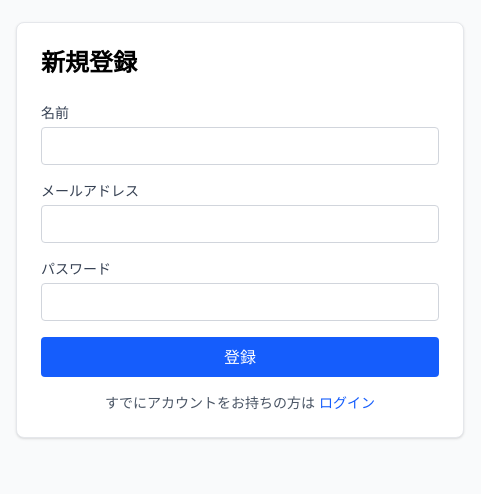
it: RegisterPage › register 失敗時にエラーを表示する
In the field labelled "名前": coordinates (240, 146) [41,127,439,165], type "テスト"
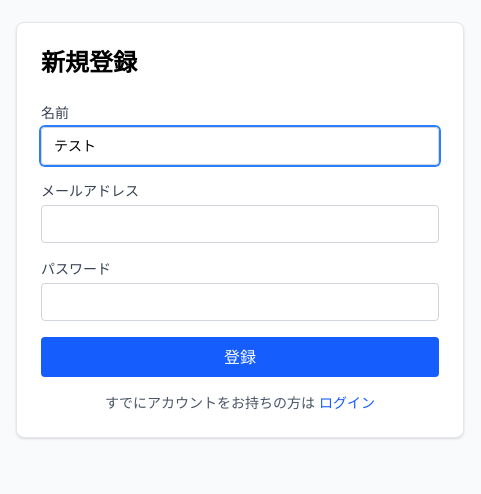
In the field labelled "メールアドレス": coordinates (240, 224) [41,205,439,243], type "test@example.com"
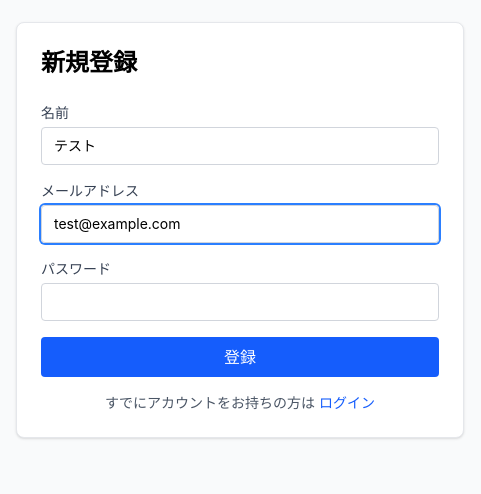
In the password field labelled "パスワード": coordinates (240, 302) [41,283,439,321], type "pass"
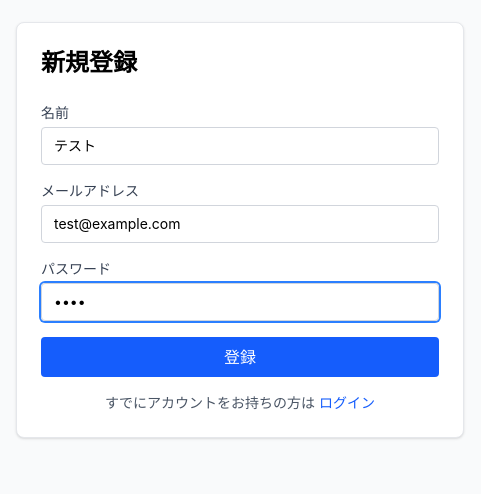
Click the button "登録": coordinates (240, 357) [41,337,439,377]
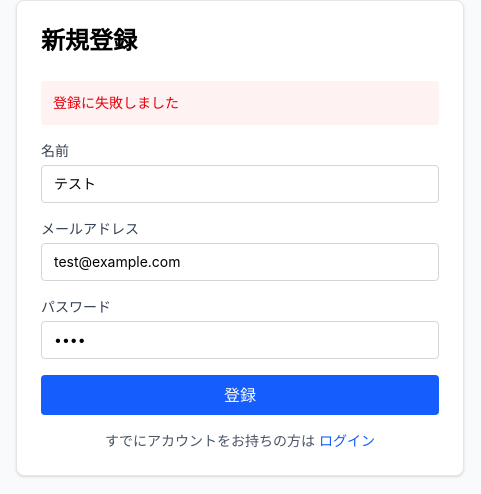
Check: the message reads "登録に失敗しました", box [53,94,179,111]
